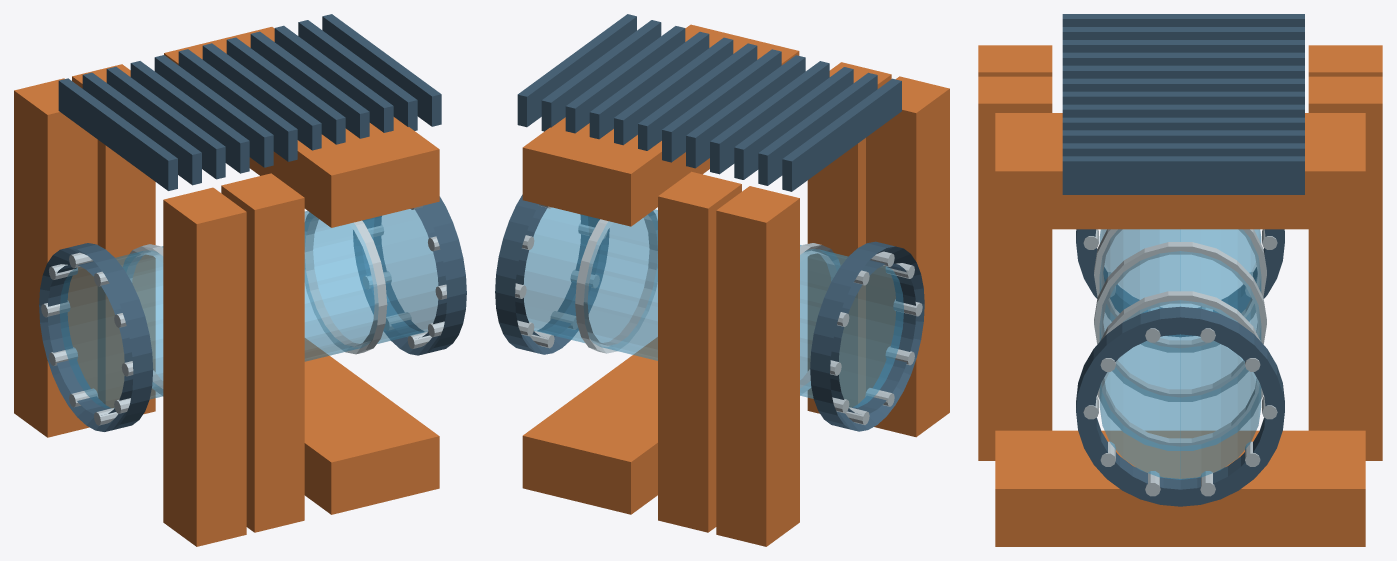
The model's file is 15_L75_ProgrammableXYBeamScanner.fbx.
3 views of the same model, side by side, from view 1: azimuth 30°, elevation 25°; view 2: azimuth 150°, elevation 25°; view 3: azimuth 270°, elevation 25° (orthographic). The views are drawn at different scales.
Visible parts, largest first — view 1: ProgrammableXYBeamScanner, ProgrammableXYBeamScanner_Part_0027, ProgrammableXYBeamScanner_Part_0026, ProgrammableXYBeamScanner_Part_0029, ProgrammableXYBeamScanner_Part_0030, ProgrammableXYBeamScanner_Part_0031, ProgrammableXYBeamScanner_Part_0028; view 2: ProgrammableXYBeamScanner, ProgrammableXYBeamScanner_Part_0026, ProgrammableXYBeamScanner_Part_0027, ProgrammableXYBeamScanner_Part_0028, ProgrammableXYBeamScanner_Part_0030, ProgrammableXYBeamScanner_Part_0031, ProgrammableXYBeamScanner_Part_0029; view 3: ProgrammableXYBeamScanner, ProgrammableXYBeamScanner_Part_0030, ProgrammableXYBeamScanner_Part_0031, ProgrammableXYBeamScanner_Part_0028, ProgrammableXYBeamScanner_Part_0029, ProgrammableXYBeamScanner_Part_0026, ProgrammableXYBeamScanner_Part_0027.
Boxes of the visible parts, bbox=[...] form: ProgrammableXYBeamScanner: bbox=[39, 14, 466, 431]; ProgrammableXYBeamScanner_Part_0027: bbox=[163, 187, 246, 546]; ProgrammableXYBeamScanner_Part_0026: bbox=[14, 78, 97, 437]; ProgrammableXYBeamScanner_Part_0029: bbox=[221, 173, 304, 532]; ProgrammableXYBeamScanner_Part_0030: bbox=[304, 338, 439, 514]; ProgrammableXYBeamScanner_Part_0031: bbox=[164, 27, 439, 227]; ProgrammableXYBeamScanner_Part_0028: bbox=[72, 64, 155, 414]; ProgrammableXYBeamScanner: bbox=[495, 14, 924, 431]; ProgrammableXYBeamScanner_Part_0026: bbox=[716, 186, 799, 546]; ProgrammableXYBeamScanner_Part_0027: bbox=[866, 76, 949, 437]; ProgrammableXYBeamScanner_Part_0028: bbox=[658, 171, 741, 532]; ProgrammableXYBeamScanner_Part_0030: bbox=[522, 337, 657, 514]; ProgrammableXYBeamScanner_Part_0031: bbox=[522, 24, 799, 226]; ProgrammableXYBeamScanner_Part_0029: bbox=[807, 62, 891, 413]; ProgrammableXYBeamScanner: bbox=[1062, 14, 1304, 506]; ProgrammableXYBeamScanner_Part_0030: bbox=[995, 430, 1365, 546]; ProgrammableXYBeamScanner_Part_0031: bbox=[995, 113, 1365, 229]; ProgrammableXYBeamScanner_Part_0028: bbox=[1308, 76, 1382, 460]; ProgrammableXYBeamScanner_Part_0029: bbox=[978, 76, 1052, 460]; ProgrammableXYBeamScanner_Part_0026: bbox=[1308, 45, 1382, 76]; ProgrammableXYBeamScanner_Part_0027: bbox=[978, 45, 1052, 76].
Bounding box in the file's own units: 128 × 132 × 120.
